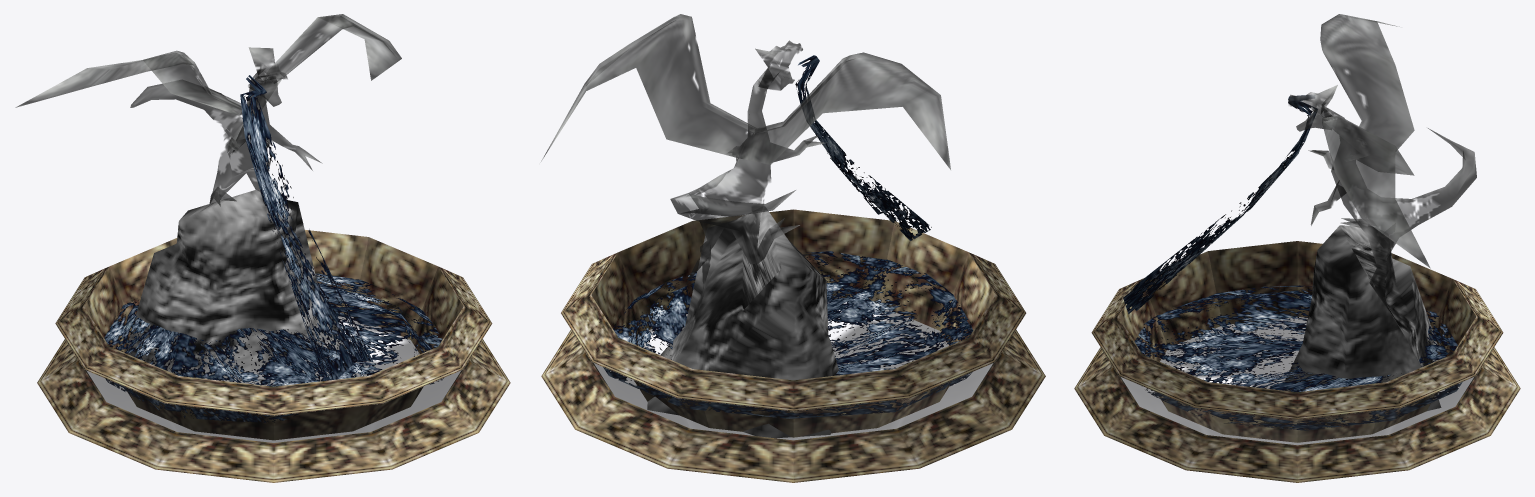
File: Waterspout01.obj
3 views of the same model, side by side, from view 1: azimuth 30°, elevation 25°; view 2: azimuth 150°, elevation 25°; view 3: azimuth 270°, elevation 25° (orthographic). The views are drawn at different scales.
Parts seen in each view (by area): view 1: Mesh_0, Mesh_1, Mesh_3, Mesh_2; view 2: Mesh_0, Mesh_1, Mesh_2, Mesh_3; view 3: Mesh_0, Mesh_1, Mesh_3, Mesh_2.
Part boxes in pixels (bbox=[...]): Mesh_0: bbox=[37, 230, 510, 482]; Mesh_1: bbox=[15, 14, 462, 442]; Mesh_3: bbox=[104, 75, 443, 422]; Mesh_2: bbox=[126, 190, 346, 380]; Mesh_0: bbox=[541, 209, 1045, 482]; Mesh_1: bbox=[540, 14, 994, 440]; Mesh_2: bbox=[647, 206, 838, 438]; Mesh_3: bbox=[603, 55, 973, 418]; Mesh_0: bbox=[1074, 241, 1520, 482]; Mesh_1: bbox=[1119, 14, 1476, 445]; Mesh_3: bbox=[1123, 95, 1462, 430]; Mesh_2: bbox=[1284, 225, 1441, 410].
Bounding box in the file's own units: 3.98 × 3.11 × 3.98.
4 materials, 4 textured.
